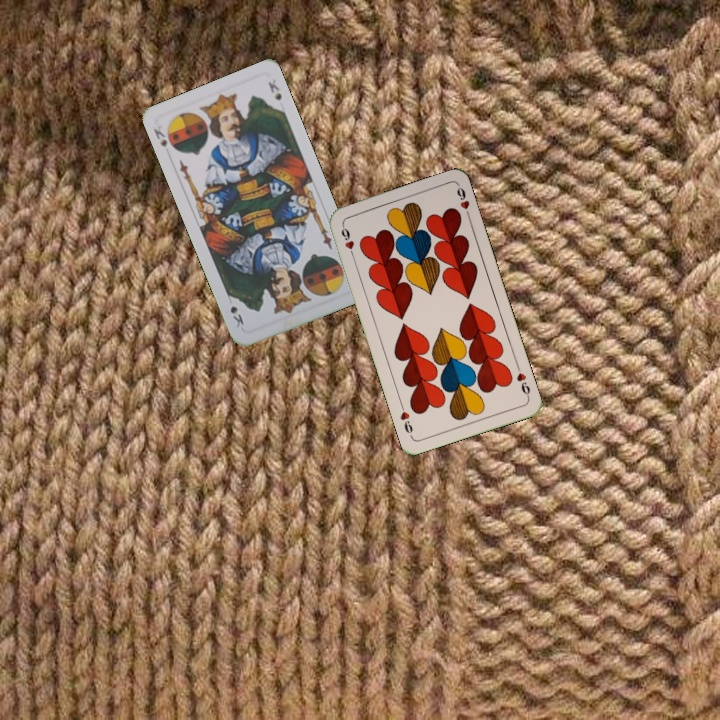H9: (512, 361, 533, 401), (337, 220, 357, 260)
SK: (149, 121, 170, 151)
